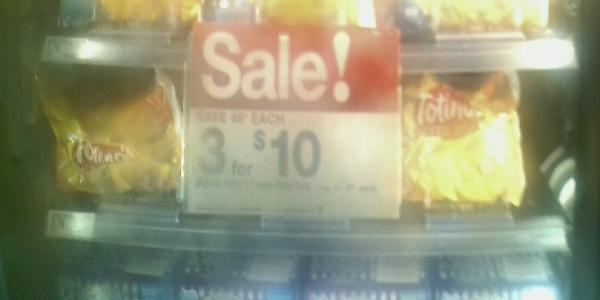icecream: (31, 62, 190, 219), (390, 67, 535, 231)
